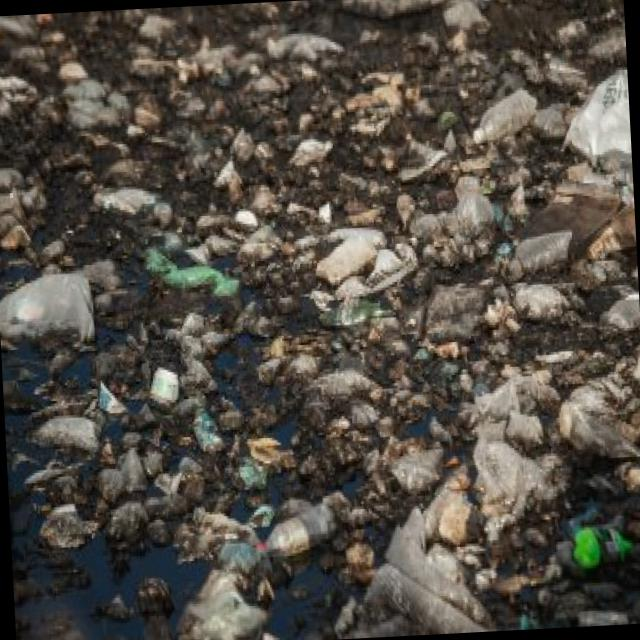garbage: (0, 33, 623, 619)
